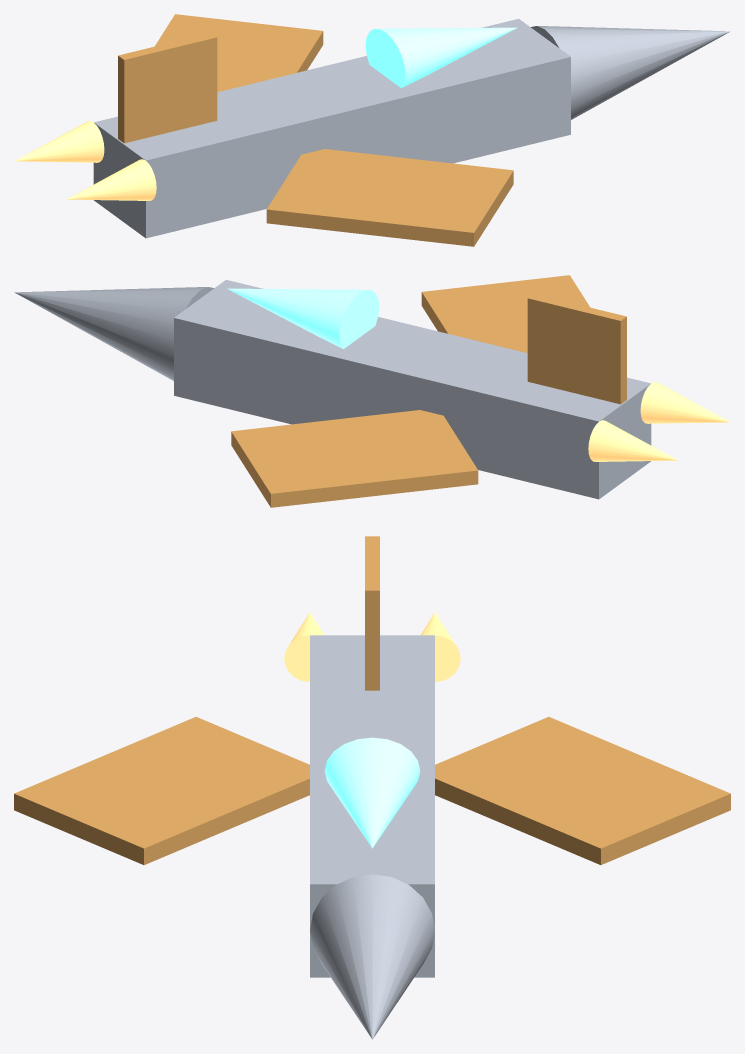
File: ship.glb
3 views of the same model, one above another, from view 1: azimuth 30°, elevation 25°; view 2: azimuth 150°, elevation 25°; view 3: azimuth 270°, elevation 25° (orthographic). The views are drawn at different scales.
Bounding box in the file's own units: 2.6 × 0.61 × 1.95.
